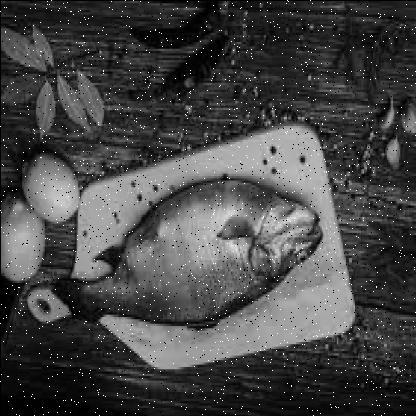fish: (53, 180, 325, 332)
